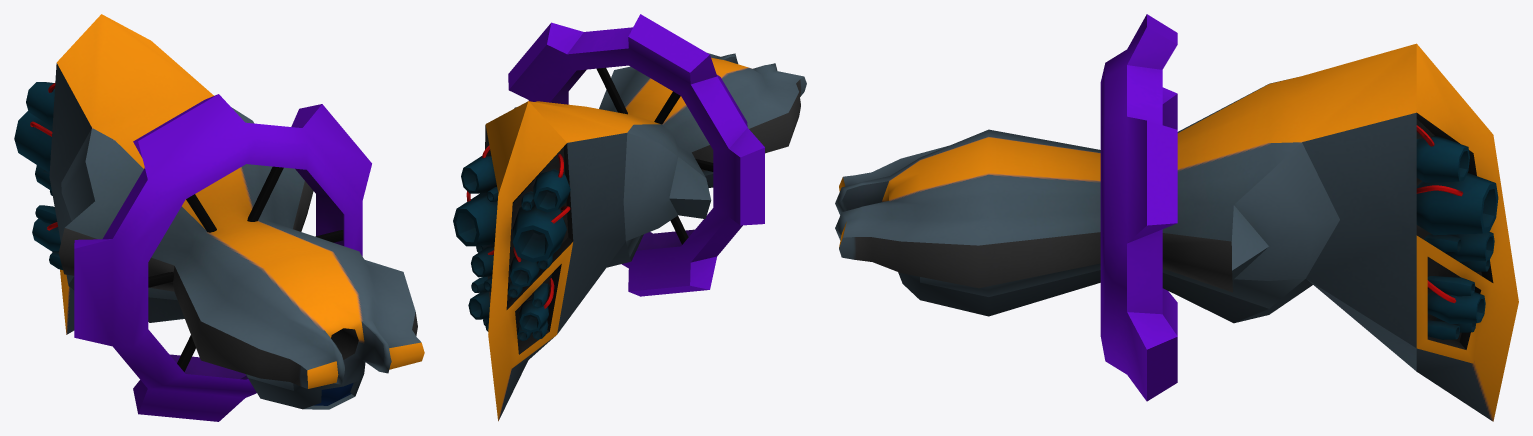
File: Frigate_Mather.FBX
The picture shows the model from 3 angles, left to right: view 1: azimuth 30°, elevation 25°; view 2: azimuth 150°, elevation 25°; view 3: azimuth 270°, elevation 25°; orthographic projection. The views are drawn at different scales.
Parts seen in each view (by area): view 1: Frigate; view 2: Frigate; view 3: Frigate.
Boxes of the visible parts, x1,y1,x2,y2 form: Frigate: [14, 14, 424, 421]; Frigate: [453, 14, 806, 421]; Frigate: [835, 14, 1518, 421].
Size of the model in its own units: 401 by 461 by 730.
